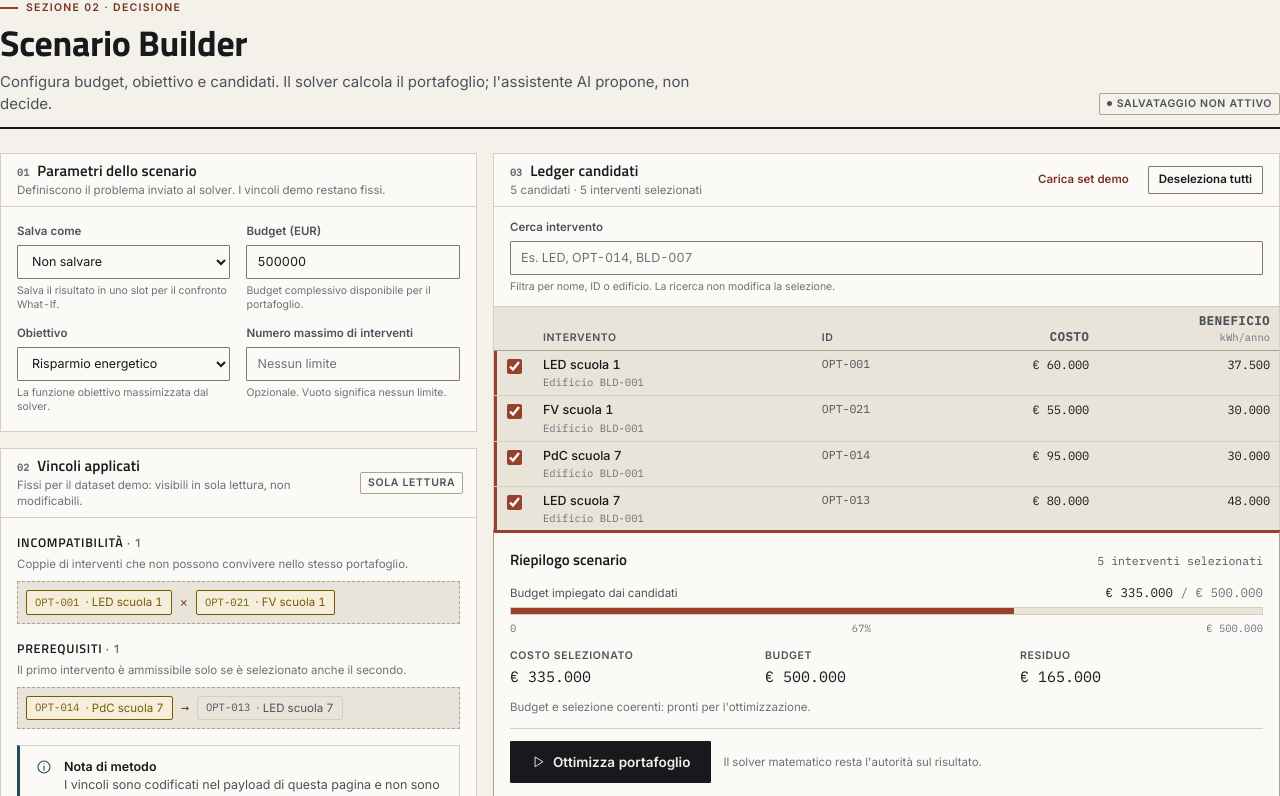
Test: ScenarioBuilder › invia il payload con i vincoli demo, salva e naviga al risultato
Expected: the checkbox named "Seleziona LED scuola 1" is checked, [507, 359, 522, 374]
Select "Scenario B" in the dropdown labelled "Salva come" at point(124, 262), box [17, 245, 230, 279]
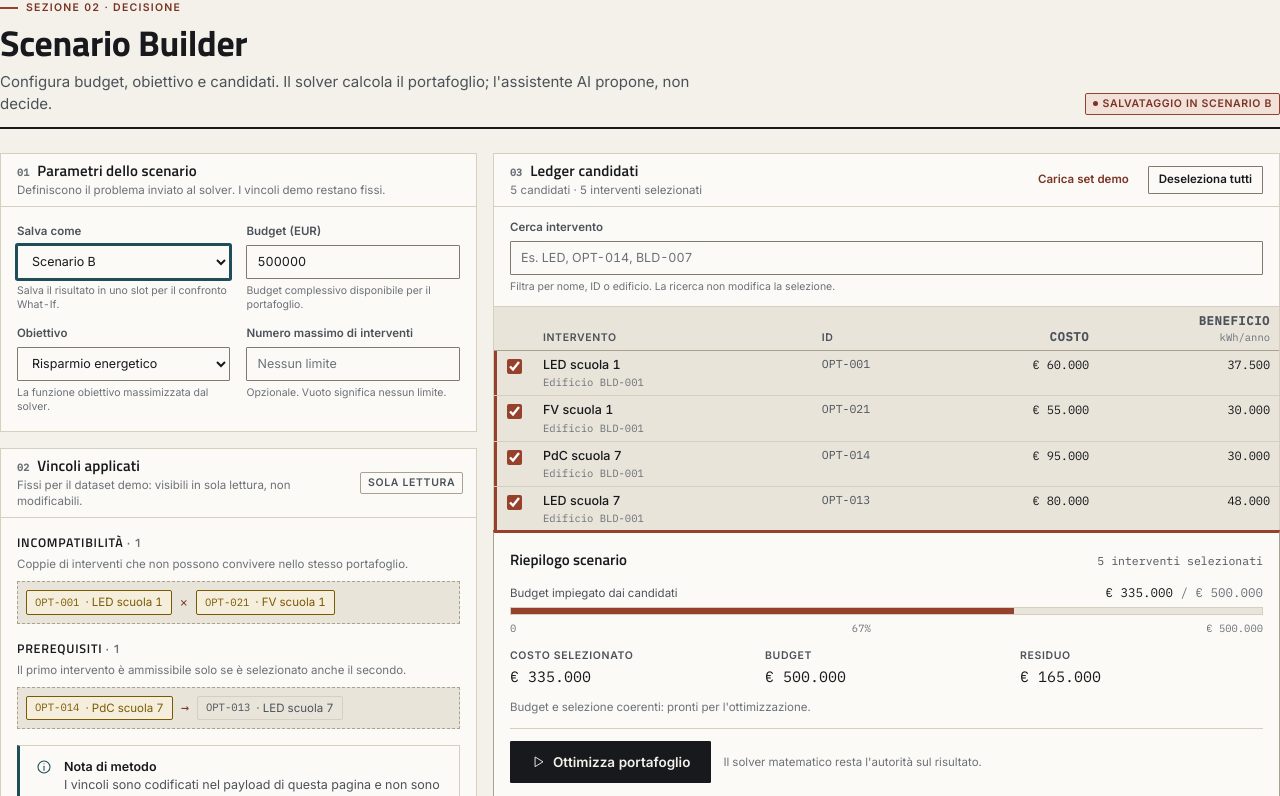
Click the button "Ottimizza portafoglio" at point(611, 762), box [510, 741, 711, 783]
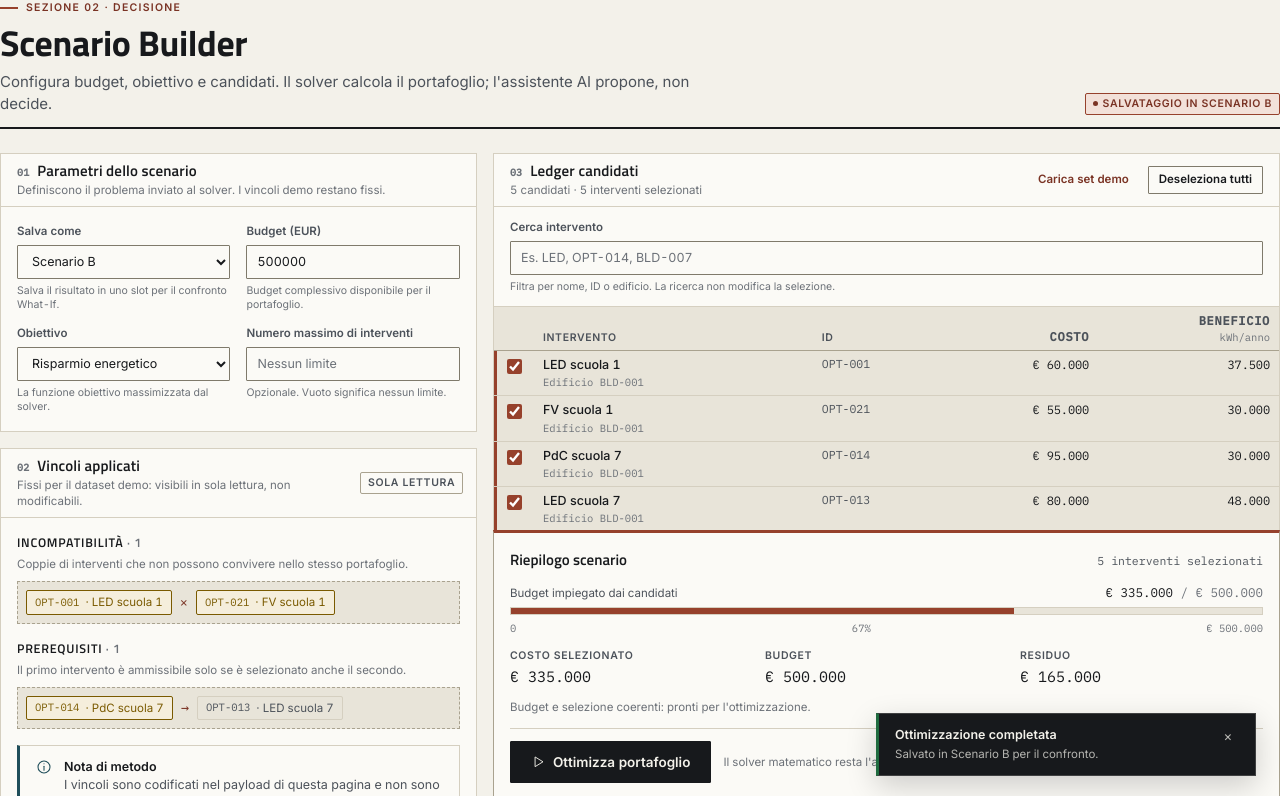
Now the text "Ottimizzazione completata" is shown, box [895, 727, 1057, 742]
